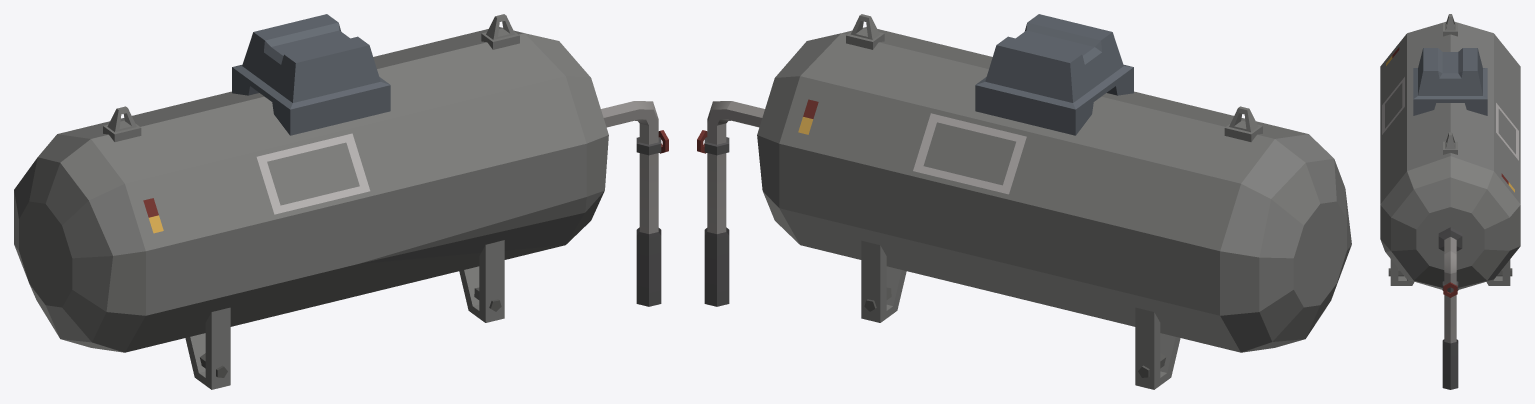
File: SM_Prop_Gastank_01.glb
The picture shows the model from 3 angles, left to right: view 1: azimuth 30°, elevation 25°; view 2: azimuth 150°, elevation 25°; view 3: azimuth 270°, elevation 25°; orthographic projection. The views are drawn at different scales.
Parts seen in each view (by area): view 1: SM_Prop_Gastank_01; view 2: SM_Prop_Gastank_01; view 3: SM_Prop_Gastank_01.
Part boxes in pixels (box(x1,y1,x2,y2)): SM_Prop_Gastank_01: box(14, 14, 668, 389); SM_Prop_Gastank_01: box(697, 14, 1351, 389); SM_Prop_Gastank_01: box(1380, 14, 1520, 389).
Bounding box in the file's own units: 6.42 × 3.42 × 1.97.
Materials: 1 (1 with a texture image).
